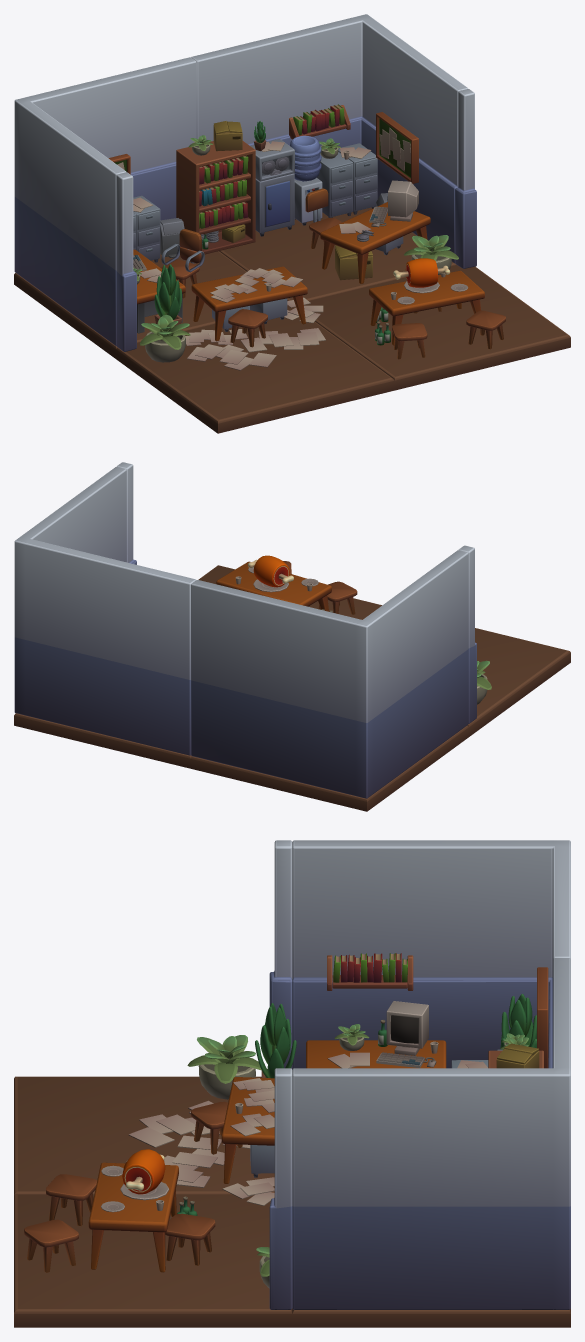
The model's file is cartoon-office.fbx.
3 views of the same model, one above another, from view 1: azimuth 30°, elevation 25°; view 2: azimuth 150°, elevation 25°; view 3: azimuth 270°, elevation 25° (orthographic). The views are drawn at different scales.
Visible parts, largest first — view 1: wall-angle.002, wall-angle.001, wall-angle-2.007, wall-angle-2.003, box.005, Cube.001, table.003, table.002, table.007, box.012, box.014, plant.005 (+23 smaller); view 2: wall-angle.002, wall-angle.001, wall-angle-2.007, table.003, wall-angle-2.003, meal.001, chair.006; view 3: wall-angle.001, wall-angle.002, wall-angle-2.003, wall-angle-2.007, table.003, plant.005, computer.001, table.006, table.007, plant.003, many-papers.006, chair.007 (+13 smaller).
Boxes of the visible parts, x1=… form: wall-angle.002: x1=14, y1=57, x2=287, y2=358; wall-angle.001: x1=191, y1=14, x2=468, y2=300; wall-angle-2.007: x1=116, y1=172, x2=394, y2=433; wall-angle-2.003: x1=295, y1=89, x2=570, y2=390; box.005: x1=176, y1=141, x2=255, y2=254; Cube.001: x1=250, y1=139, x2=294, y2=236; table.003: x1=369, y1=270, x2=484, y2=345; table.002: x1=320, y1=202, x2=430, y2=283; table.007: x1=191, y1=266, x2=307, y2=341; box.012: x1=290, y1=135, x2=322, y2=225; box.014: x1=316, y1=152, x2=353, y2=217; plant.005: x1=139, y1=314, x2=190, y2=362; wall-angle.002: x1=190, y1=550, x2=468, y2=811; wall-angle.001: x1=14, y1=467, x2=195, y2=768; wall-angle-2.007: x1=458, y1=545, x2=570, y2=736; table.003: x1=216, y1=561, x2=331, y2=611; wall-angle-2.003: x1=116, y1=462, x2=381, y2=619; meal.001: x1=248, y1=555, x2=293, y2=587; chair.006: x1=318, y1=581, x2=357, y2=614; wall-angle.001: x1=292, y1=958, x2=570, y2=1327; wall-angle.002: x1=292, y1=840, x2=570, y2=1069; wall-angle-2.003: x1=14, y1=1068, x2=292, y2=1327; wall-angle-2.007: x1=14, y1=840, x2=292, y2=1195; table.003: x1=88, y1=1162, x2=178, y2=1272; plant.005: x1=187, y1=1035, x2=261, y2=1099; computer.001: x1=376, y1=1001, x2=436, y2=1068; table.006: x1=306, y1=1040, x2=446, y2=1068; table.007: x1=221, y1=1077, x2=274, y2=1183; plant.003: x1=255, y1=1003, x2=296, y2=1078; many-papers.006: x1=164, y1=1135, x2=234, y2=1187; chair.007: x1=24, y1=1219, x2=78, y2=1272.
Size of the model in its own units: 2000 by 1001 by 2000.
